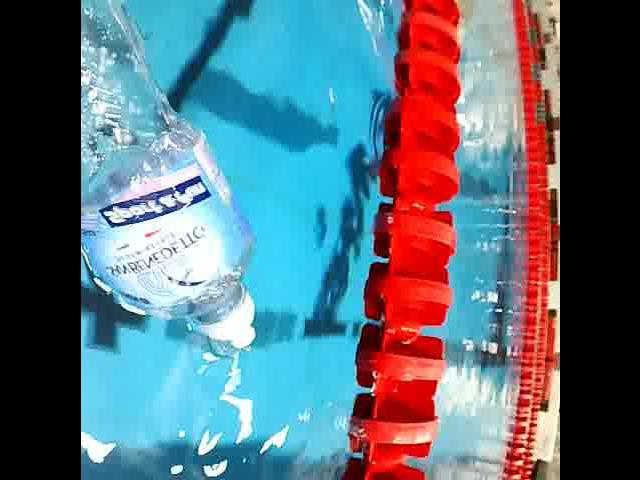Bottle: (80, 0, 265, 363)
